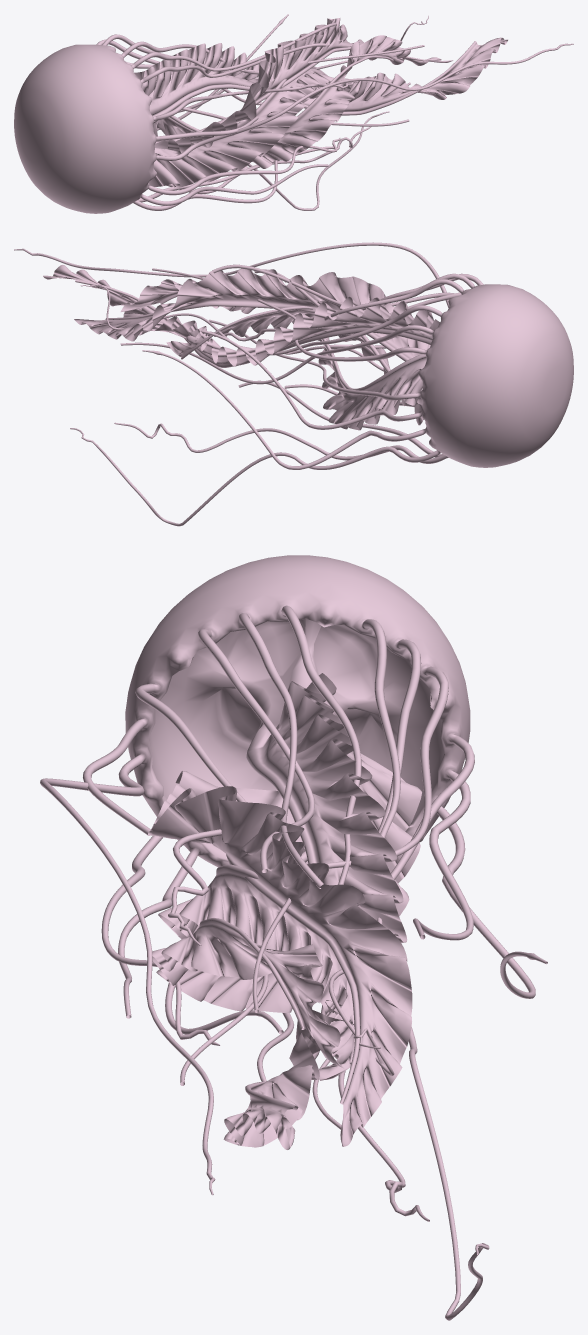
Rendered from asset.glb.
3 views of the same model, one above another, from view 1: azimuth 30°, elevation 25°; view 2: azimuth 150°, elevation 25°; view 3: azimuth 270°, elevation 25° (orthographic). The views are drawn at different scales.
Parts seen in each view (by area): view 1: denizanasi; view 2: denizanasi; view 3: denizanasi.
Part boxes in pixels (x1,y1,x2,y2): denizanasi: [14, 14, 573, 213]; denizanasi: [14, 242, 573, 526]; denizanasi: [40, 555, 547, 1320].
Size of the model in its own units: 0.1239 by 0.0566 by 0.0522.
